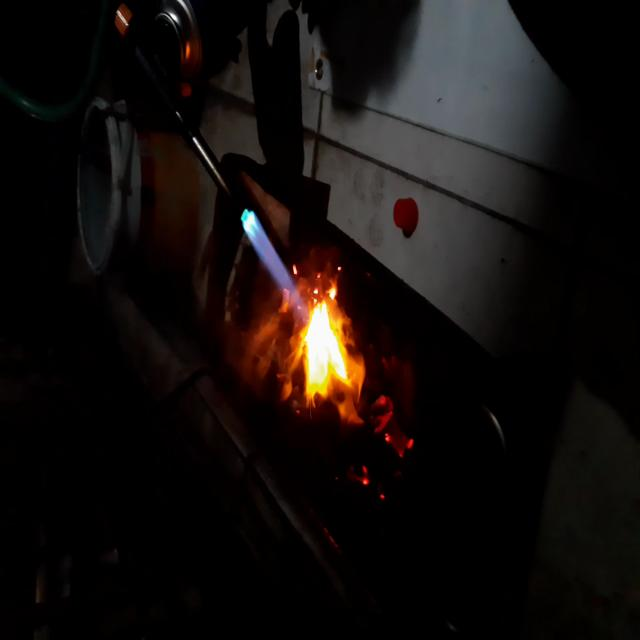Fire: (245, 190, 305, 327), (304, 302, 368, 425), (363, 380, 409, 508), (238, 319, 300, 408)
